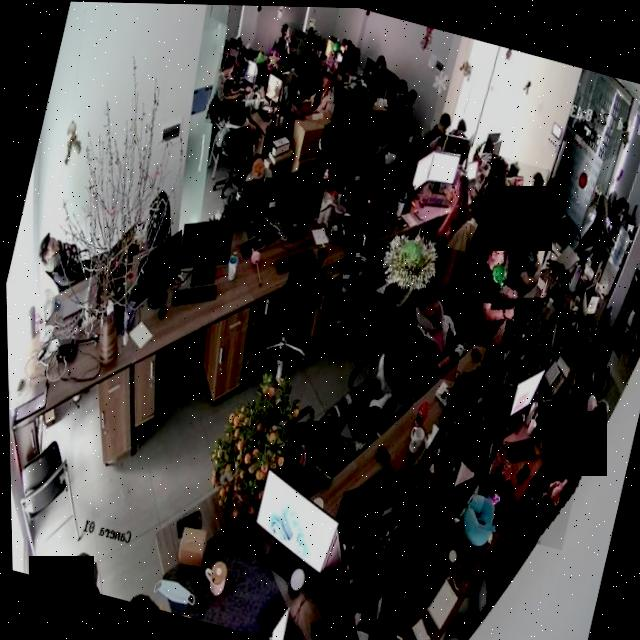person: (473, 440, 580, 548), (457, 222, 534, 352), (399, 278, 473, 380), (473, 151, 554, 229), (430, 164, 481, 250), (497, 218, 549, 299), (202, 51, 250, 129), (292, 60, 342, 125), (465, 149, 510, 220), (611, 259, 640, 353), (288, 29, 327, 80), (268, 18, 303, 71), (418, 106, 452, 148)
